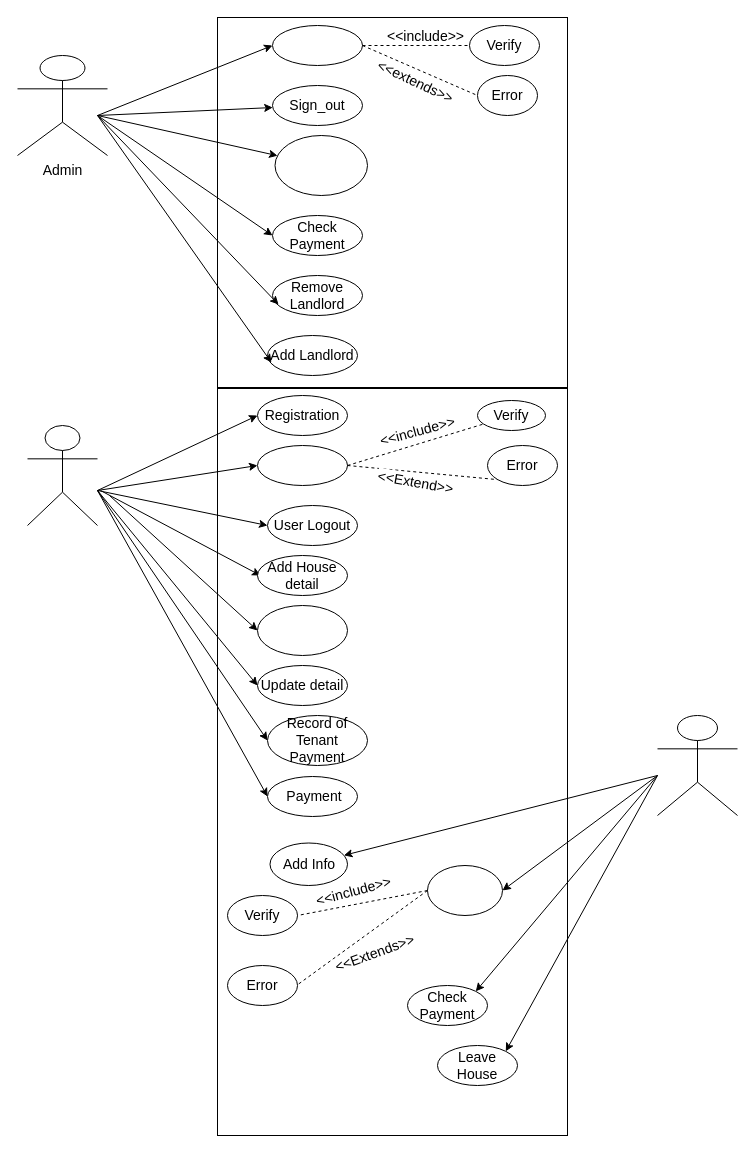
This 755x1153 diagram has some shape labels left out. Here are the shapes that lost their labels. From the top down, the centre of each, then its label:
At [317,45]: "Sign_in".
At [321,165]: "Check Tenant Detail".
At [62,475]: "LandLord".
At [302,465]: "User Login".
At [302,630]: "Remove House detail".
At [697,765]: "Tenant".
At [464,890]: "Book House".
